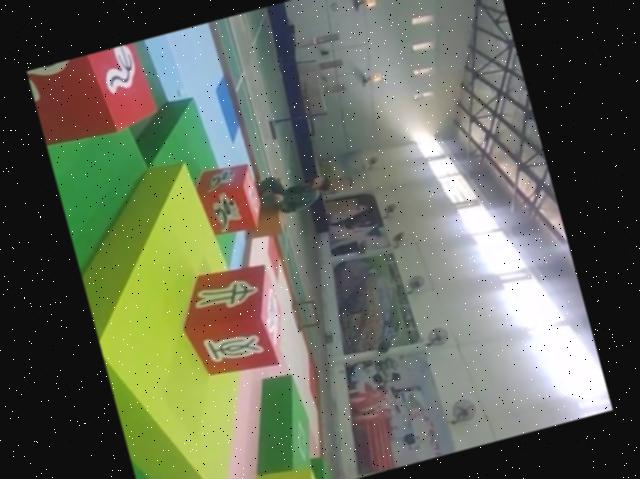R1: (192, 154, 270, 239)
R2 Fake: (170, 252, 295, 387)
R2 Real: (26, 39, 166, 152)
